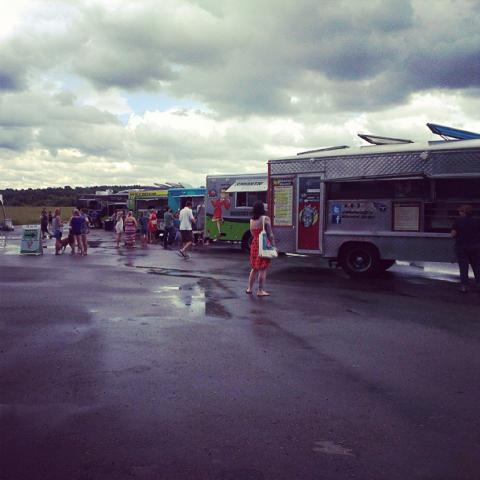truck: (268, 122, 480, 280), (204, 172, 267, 252), (128, 190, 168, 230), (168, 188, 204, 229), (76, 193, 128, 218)
